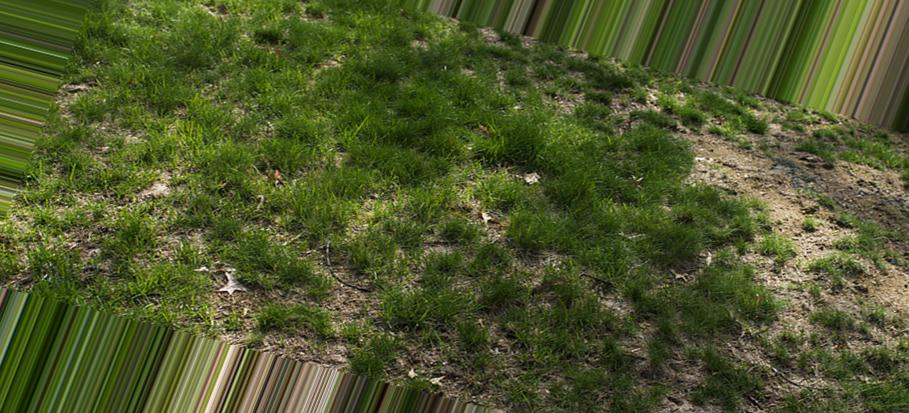patch: (694, 130, 894, 266), (784, 226, 902, 341), (131, 175, 190, 251), (202, 264, 250, 318)
